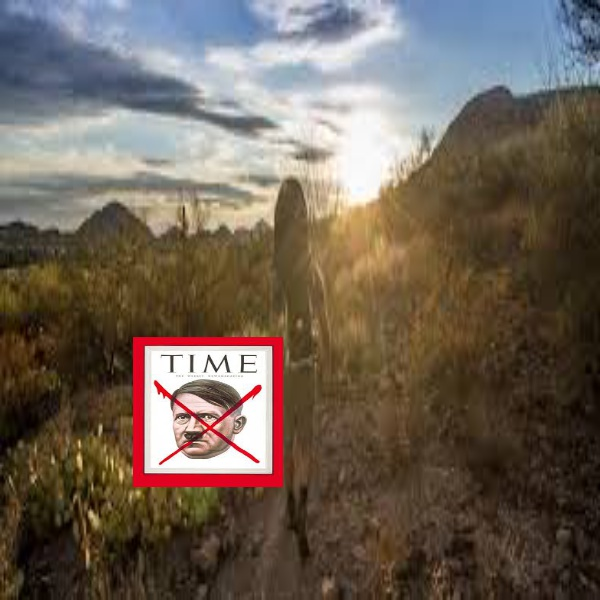time_cover: (129, 326, 286, 495)
